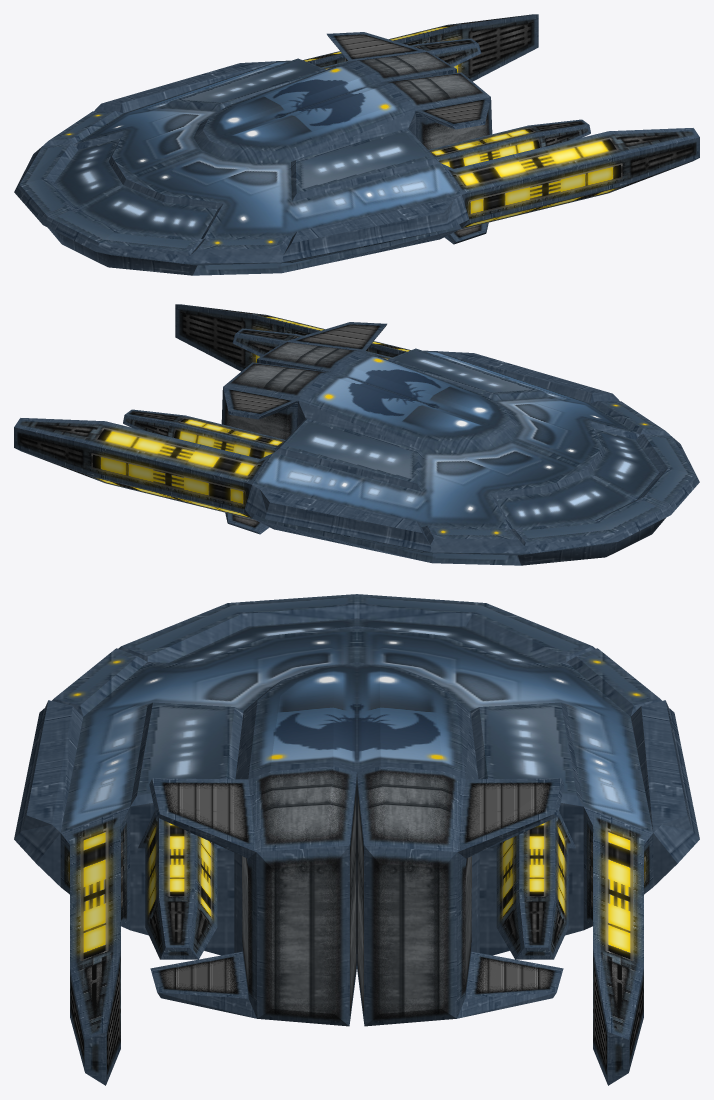
File: AstraShuttleModel.FBX
The picture shows the model from 3 angles, top to bottom: view 1: azimuth 30°, elevation 25°; view 2: azimuth 150°, elevation 25°; view 3: azimuth 270°, elevation 25°; orthographic projection. The views are drawn at different scales.
Visible parts, largest first — view 1: AstraShuttleHull, AstraShuttleEngines, AstraShuttleCargo; view 2: AstraShuttleHull, AstraShuttleEngines, AstraShuttleCargo; view 3: AstraShuttleHull, AstraShuttleCargo, AstraShuttleEngines.
Boxes of the visible parts, x1,y1,x2,y2 form: AstraShuttleHull: [14, 58, 469, 275]; AstraShuttleEngines: [303, 14, 699, 229]; AstraShuttleCargo: [327, 32, 492, 244]; AstraShuttleHull: [244, 348, 699, 565]; AstraShuttleEngines: [14, 304, 410, 519]; AstraShuttleCargo: [221, 322, 386, 534]; AstraShuttleHull: [14, 594, 699, 955]; AstraShuttleCargo: [149, 766, 564, 1026]; AstraShuttleEngines: [60, 807, 653, 1085].
Bounding box in the file's own units: 99.39 × 21.7 × 63.61.
